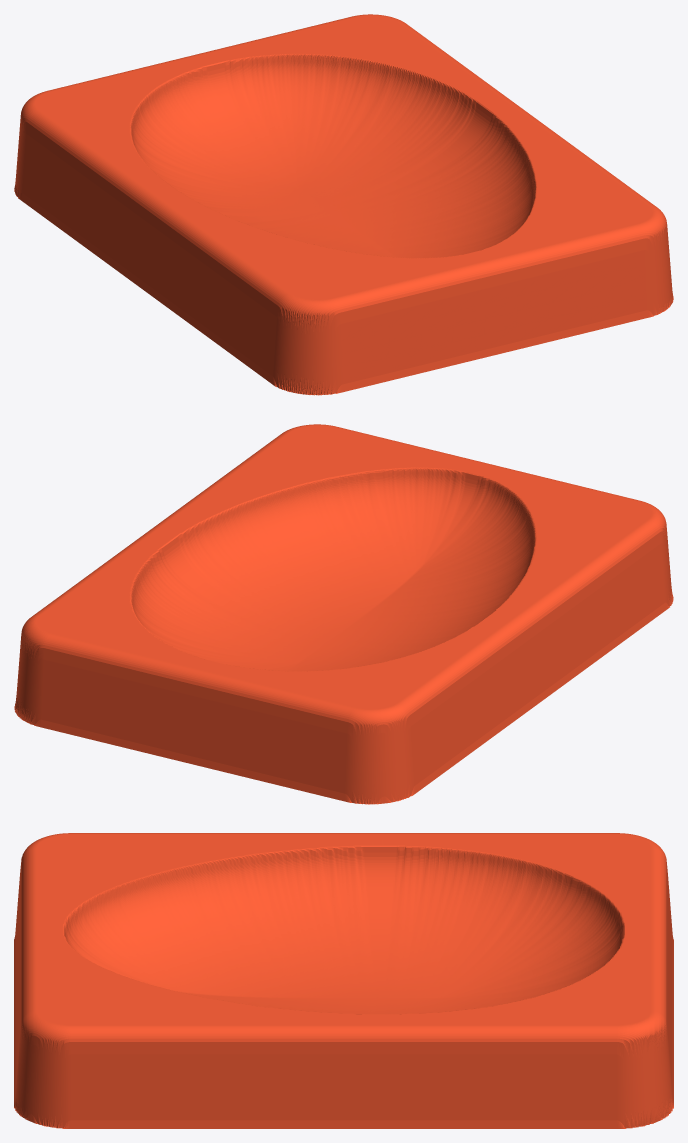
Rendered from mold.glb.
3 views of the same model, one above another, from view 1: azimuth 30°, elevation 25°; view 2: azimuth 150°, elevation 25°; view 3: azimuth 270°, elevation 25° (orthographic). The views are drawn at different scales.
Visible parts, largest first — view 1: geometry_0; view 2: geometry_0; view 3: geometry_0.
Part boxes in pixels (x1,y1,x2,y2): geometry_0: (14,14,673,395); geometry_0: (14,424,673,804); geometry_0: (14,833,673,1128).
Bounding box in the file's own units: 0.079 × 0.0165 × 0.105.
